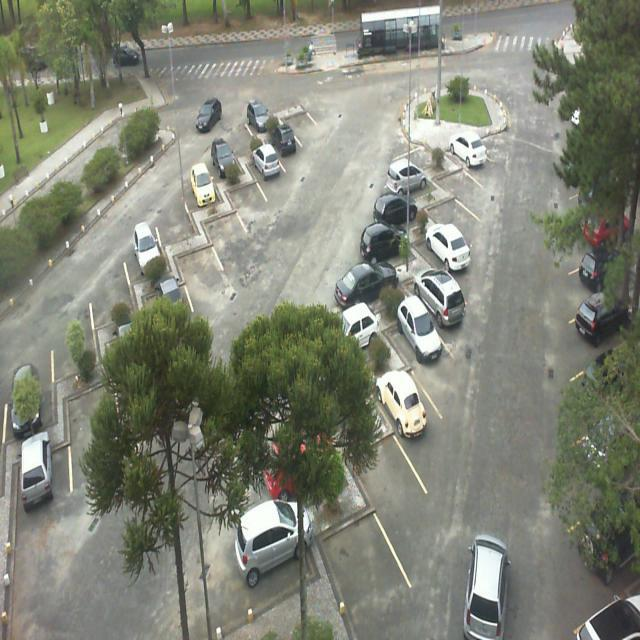space-empty: (322, 488, 402, 620), (351, 401, 425, 521), (94, 245, 136, 324), (426, 173, 478, 236), (437, 147, 489, 200), (181, 222, 220, 290), (158, 180, 196, 242), (204, 189, 243, 248), (229, 159, 267, 218), (225, 105, 261, 156), (282, 88, 318, 134), (399, 126, 442, 159)
space-occupied: (235, 500, 324, 608), (386, 287, 451, 382), (374, 355, 440, 444), (405, 251, 459, 328), (416, 205, 469, 274), (339, 250, 398, 310), (356, 215, 414, 266), (368, 176, 426, 226), (126, 214, 167, 279), (380, 150, 434, 190), (449, 122, 492, 168), (265, 107, 303, 157), (205, 125, 240, 179), (183, 151, 218, 202), (248, 134, 285, 182), (245, 87, 276, 132)
